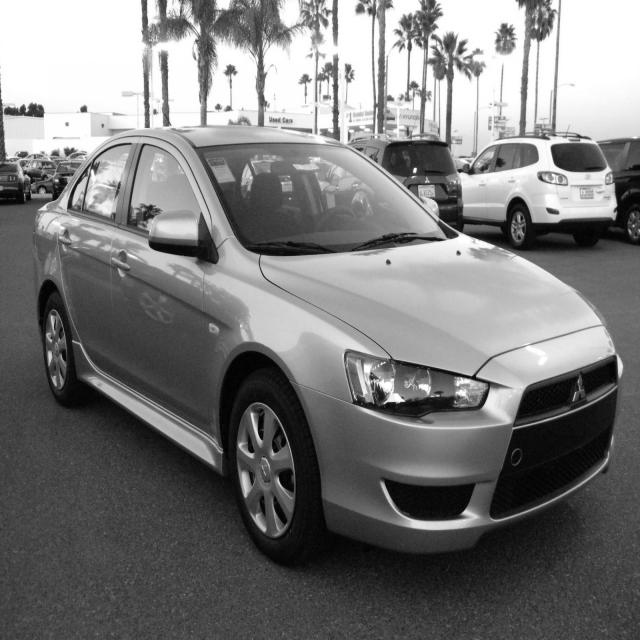car: (32, 123, 623, 567)
